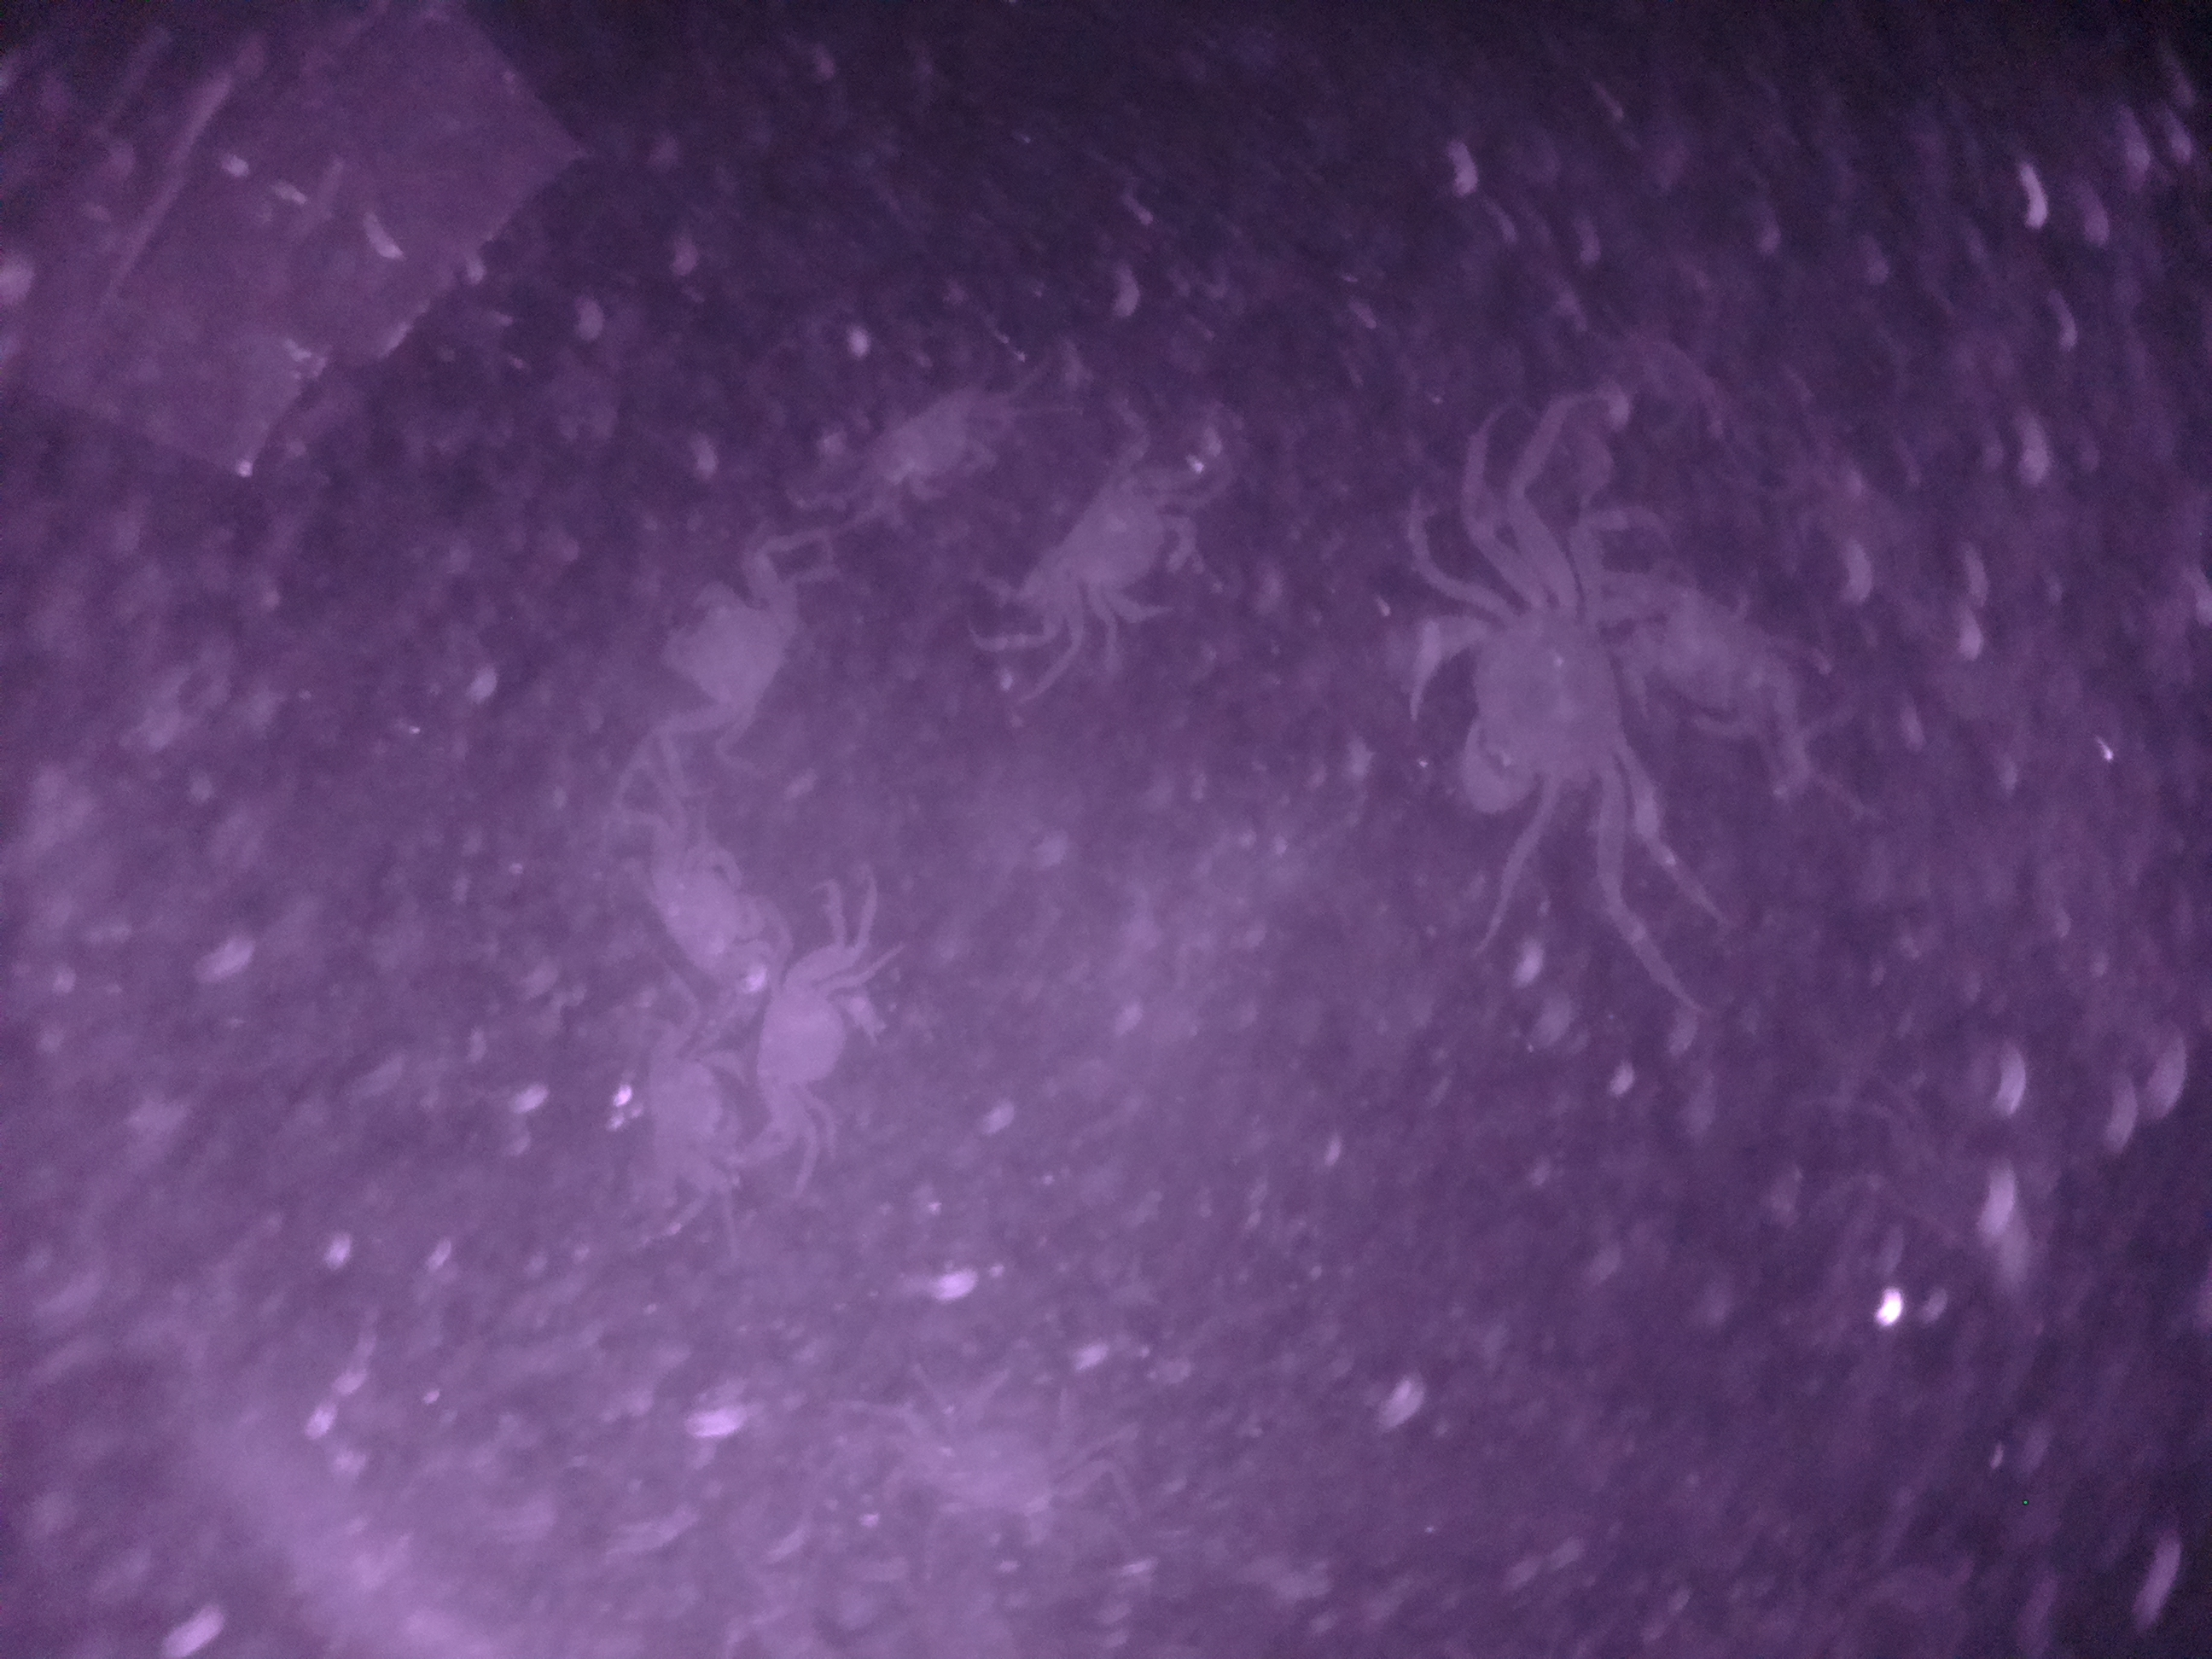Crab: (1385, 518, 1669, 866), (648, 554, 831, 765), (1038, 434, 1219, 645), (733, 941, 913, 1143)
